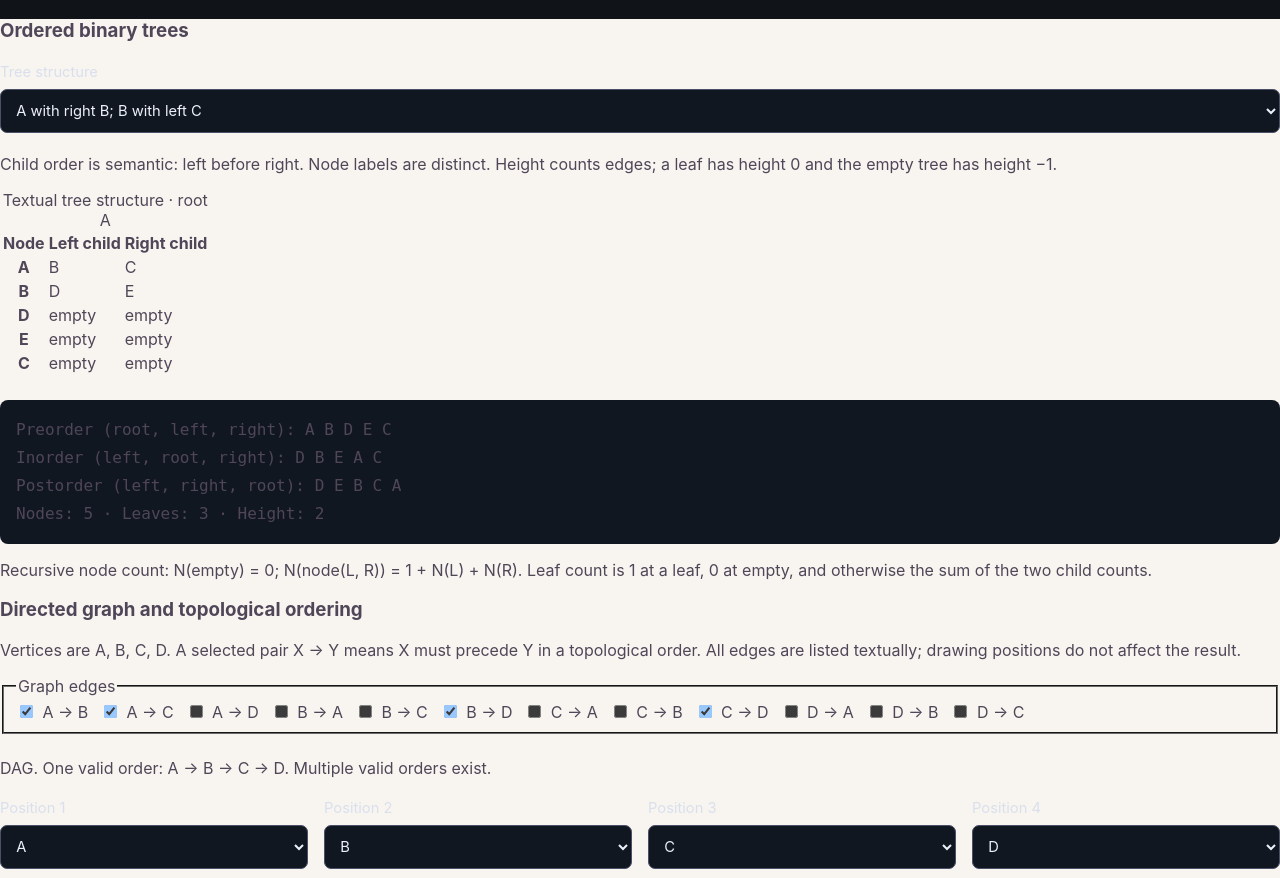
it: R&L workspace controls preserve their mathematical claims › shows textual child relationships and distinguishes empty, branch and ordered-chain traversals
The width and height of the screenshot is (1280, 878).
Check: the text "Textual tree structure · root A" is shown, box [0,190,210,230]
Check: the label "Tree structure" is shown, box [0,62,1279,133]
Select "A with right B; B with left C" in the dropdown labelled "Tree structure" at [640, 111], box [0,88,1279,133]
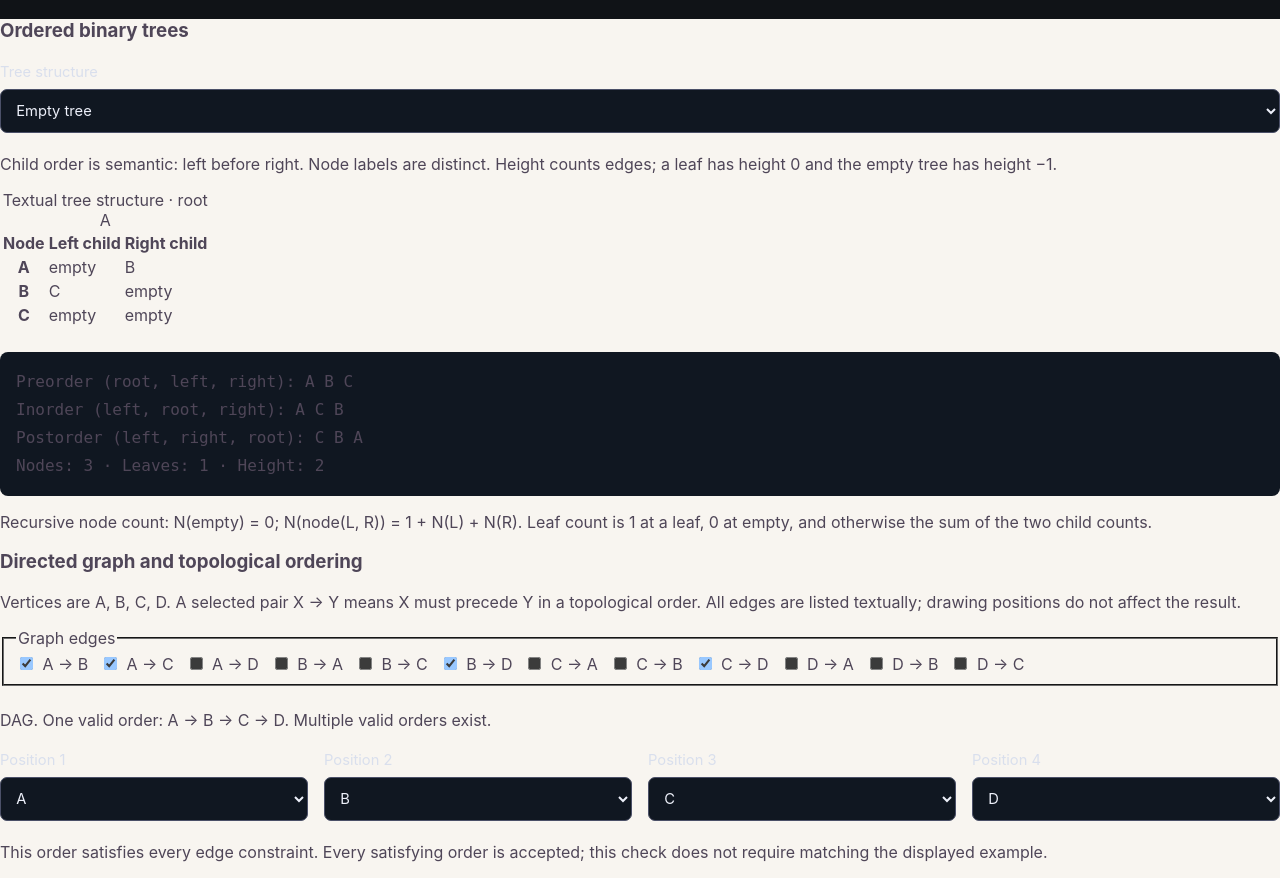
Check: the text "Inorder (left, root, right): A C B" is shown, box [0,352,1279,496]
Check: the text "Postorder (left, right, root): C B A" is shown, box [0,352,1279,496]
Select "Empty tree" in the dropdown labelled "Tree structure" at [640, 111], box [0,88,1279,133]
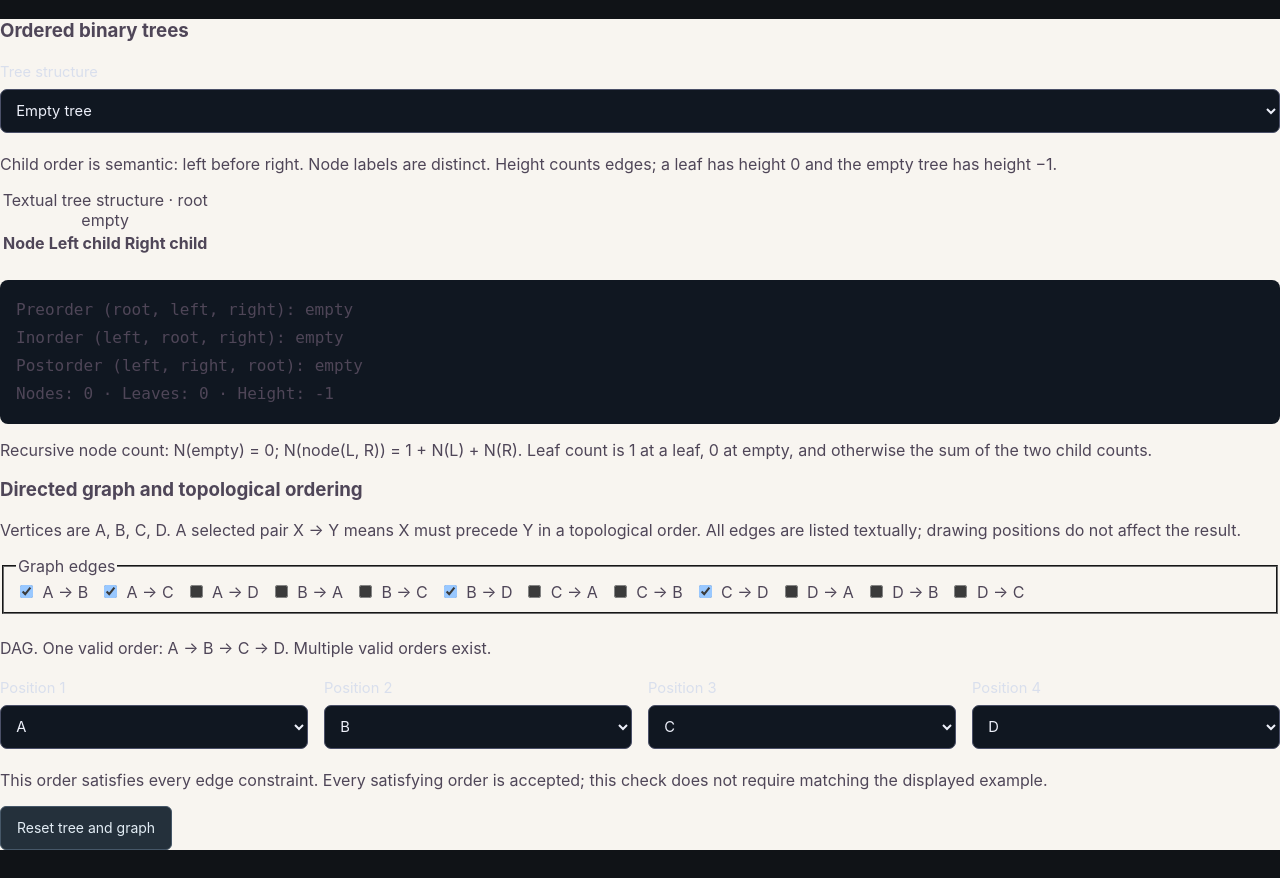
Check: the text "Nodes: 0 · Leaves: 0 · Height: -1" is shown, box [0,280,1279,424]
Check: the text "Textual tree structure · root empty" is shown, box [0,190,210,230]
